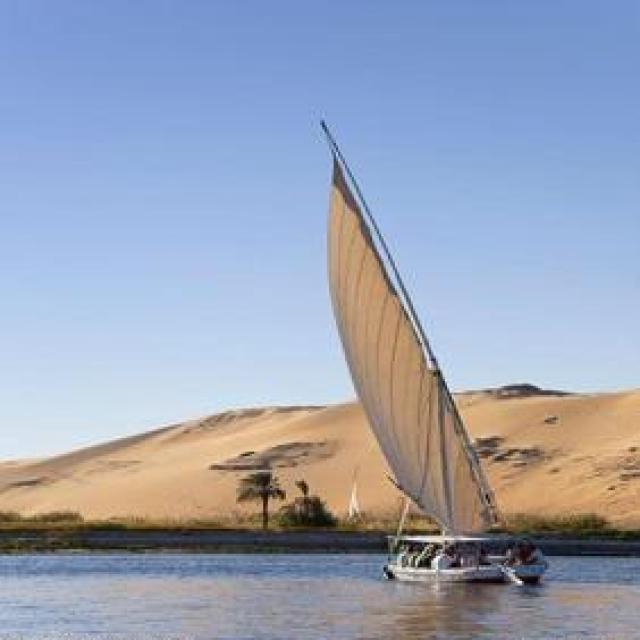sailboat: (312, 113, 552, 584)
